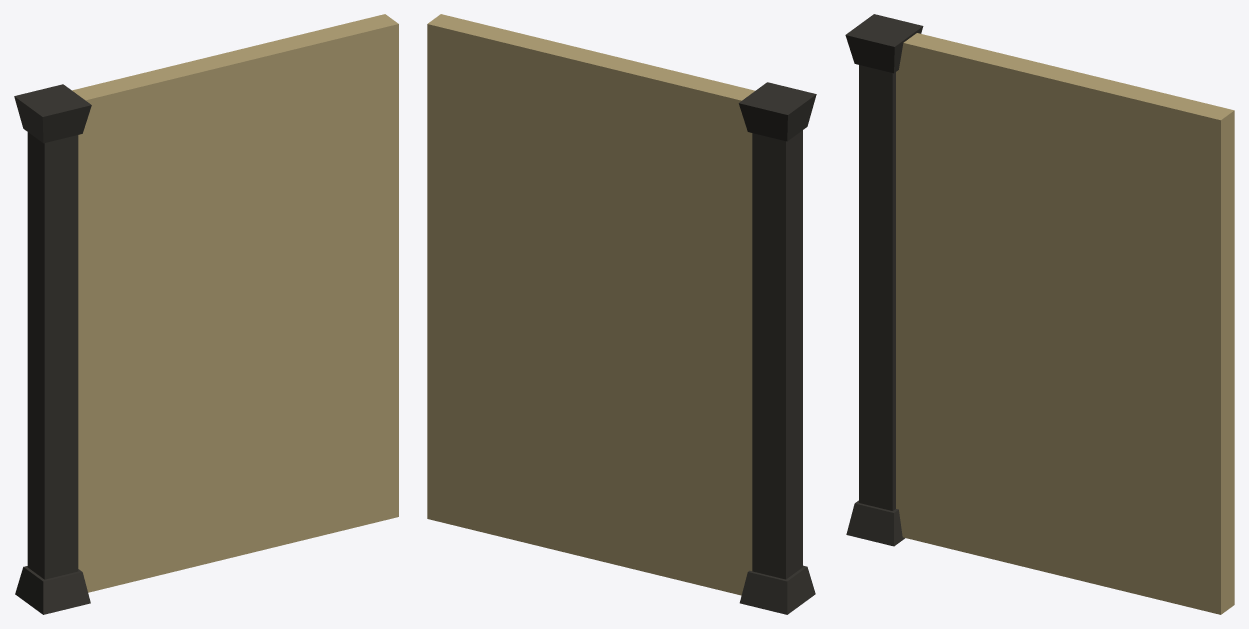
The model's file is wall with post (DoNotUse).fbx.
3 renders of one model, left to right at view 1: azimuth 30°, elevation 25°; view 2: azimuth 150°, elevation 25°; view 3: azimuth 330°, elevation 25°, orthographic.
Parts seen in each view (by area): view 1: pCube13; view 2: pCube13; view 3: pCube13.
Boxes of the visible parts, x1,y1,x2,y2 form: pCube13: [14, 14, 398, 614]; pCube13: [427, 14, 816, 614]; pCube13: [845, 14, 1234, 614].
Bounding box in the file's own units: 15.5 × 20.21 × 2.1.
